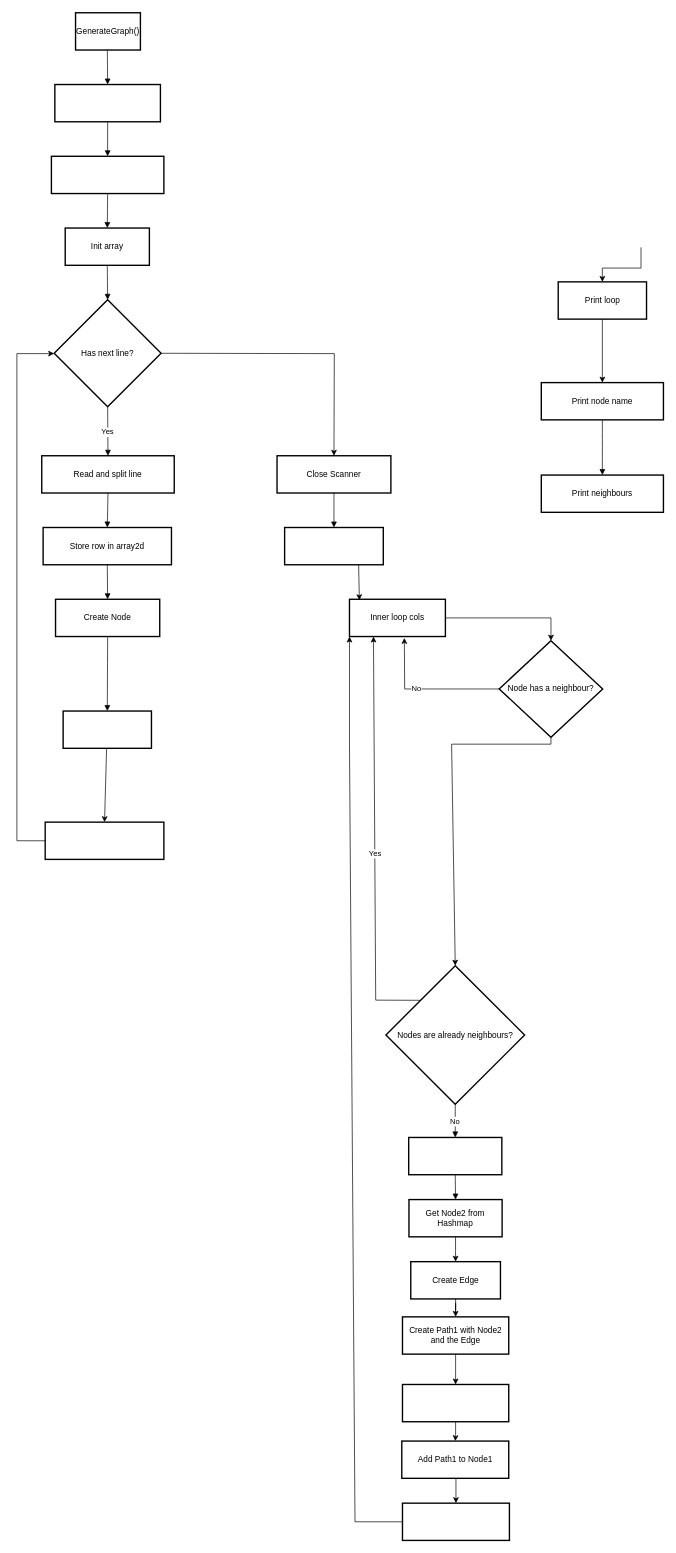
This 676x1553 diagram has some shape labels left out. Here are the shapes that lost their labels. From the top down, the box of each, then its label:
(54, 83, 161, 122): Init nodeMap
(50, 155, 164, 194): Open Scanner
(284, 526, 384, 565): Outer loop rows
(62, 710, 152, 749): Set name
(44, 821, 164, 860): Put in nodeMap
(408, 1136, 502, 1175): Get Node1 from Hashmap
(401, 1383, 509, 1422): Create Path2 with Node1 and the Edge
(401, 1502, 510, 1541): Add Path2 to Node2
